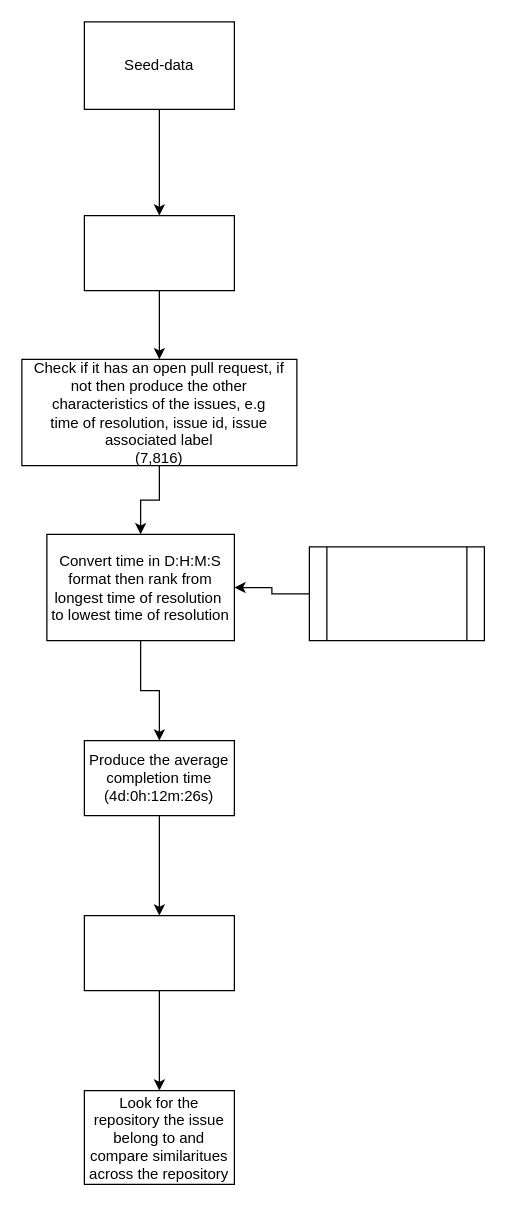
This 506x1206 diagram has some shape labels left out. The shapes that lost their labels are listed below. From the top down, each one's centre as x and y in pixels, then its label:
point 158,252: Filter for closed issues with labels 'feature
point 396,593: Compare similarities between last three and top three
point 158,952: Get top three and last three rows from our analyzed dataset
